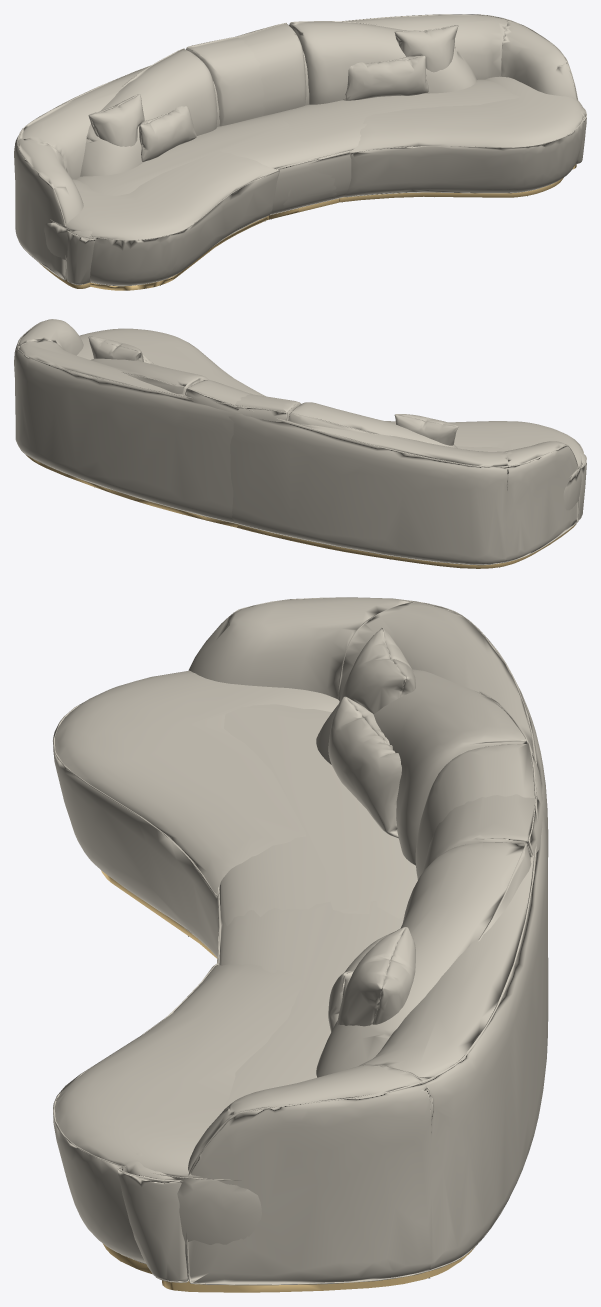
The model's file is bella-3d-curved-sectional.glb.
The picture shows the model from 3 angles, top to bottom: view 1: azimuth 30°, elevation 25°; view 2: azimuth 150°, elevation 25°; view 3: azimuth 270°, elevation 25°; orthographic projection. The views are drawn at different scales.
Parts seen in each view (by area): view 1: curved-sectional-4, curved-sectional-5, curved-sectional-7; view 2: curved-sectional-4, curved-sectional-5, curved-sectional-7; view 3: curved-sectional-4, curved-sectional-5, curved-sectional-7.
Part boxes in pixels (x1,y1,x2,y2): curved-sectional-4: (14, 14, 586, 286); curved-sectional-5: (88, 25, 458, 161); curved-sectional-7: (39, 164, 576, 290); curved-sectional-4: (14, 319, 586, 565); curved-sectional-5: (88, 336, 458, 445); curved-sectional-7: (25, 454, 576, 568); curved-sectional-4: (53, 597, 548, 1285); curved-sectional-5: (328, 628, 415, 1031); curved-sectional-7: (101, 870, 474, 1292).
Size of the model in its own units: 3.44 by 0.8112 by 1.42.
